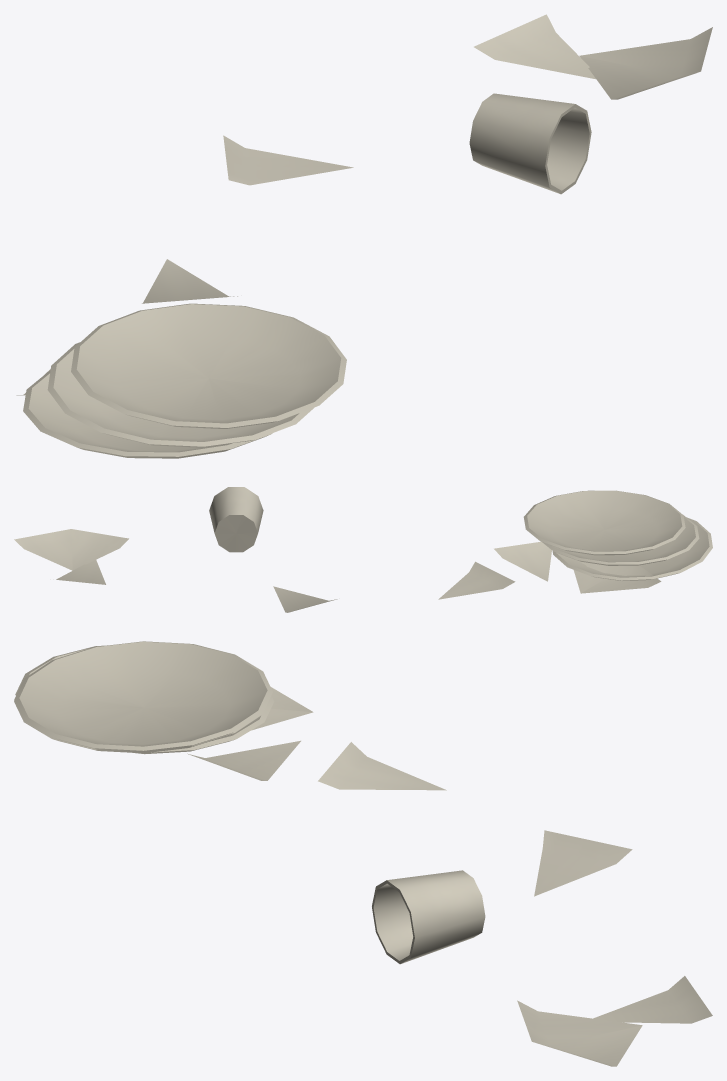
Rendered from Debris_Dishes.fbx.
3 views of the same model, one above another, from view 1: azimuth 30°, elevation 25°; view 2: azimuth 150°, elevation 25°; view 3: azimuth 270°, elevation 25° (orthographic). The views are drawn at different scales.
Parts seen in each view (by area): view 1: Debris_Dishes; view 2: Debris_Dishes; view 3: Debris_Dishes.
Boxes of the visible parts, x1=… form: Debris_Dishes: x1=16, y1=14, x2=712, y2=458; Debris_Dishes: x1=14, y1=487, x2=712, y2=612; Debris_Dishes: x1=14, y1=641, x2=712, y2=1066.
Bounding box in the file's own units: 0.9189 × 0.0805 × 0.6473.
